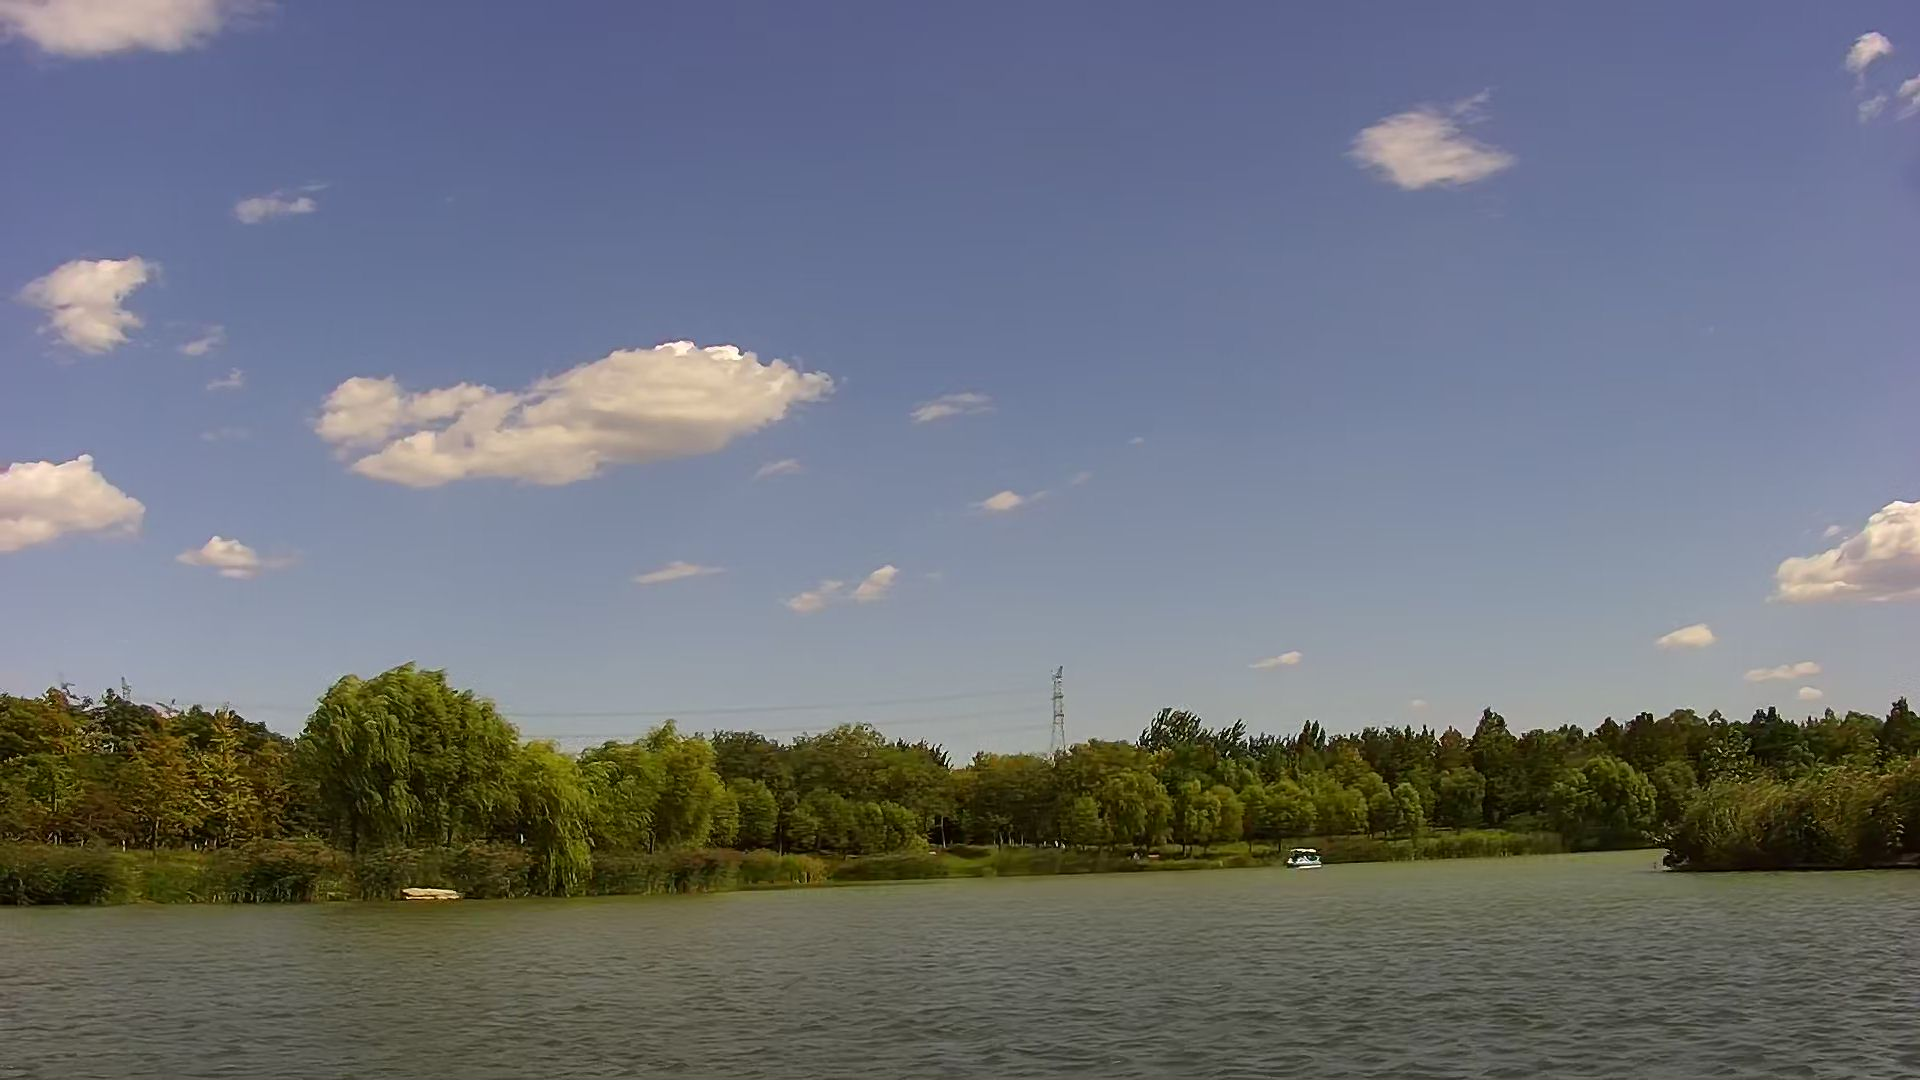boat: (1283, 844, 1327, 869)
